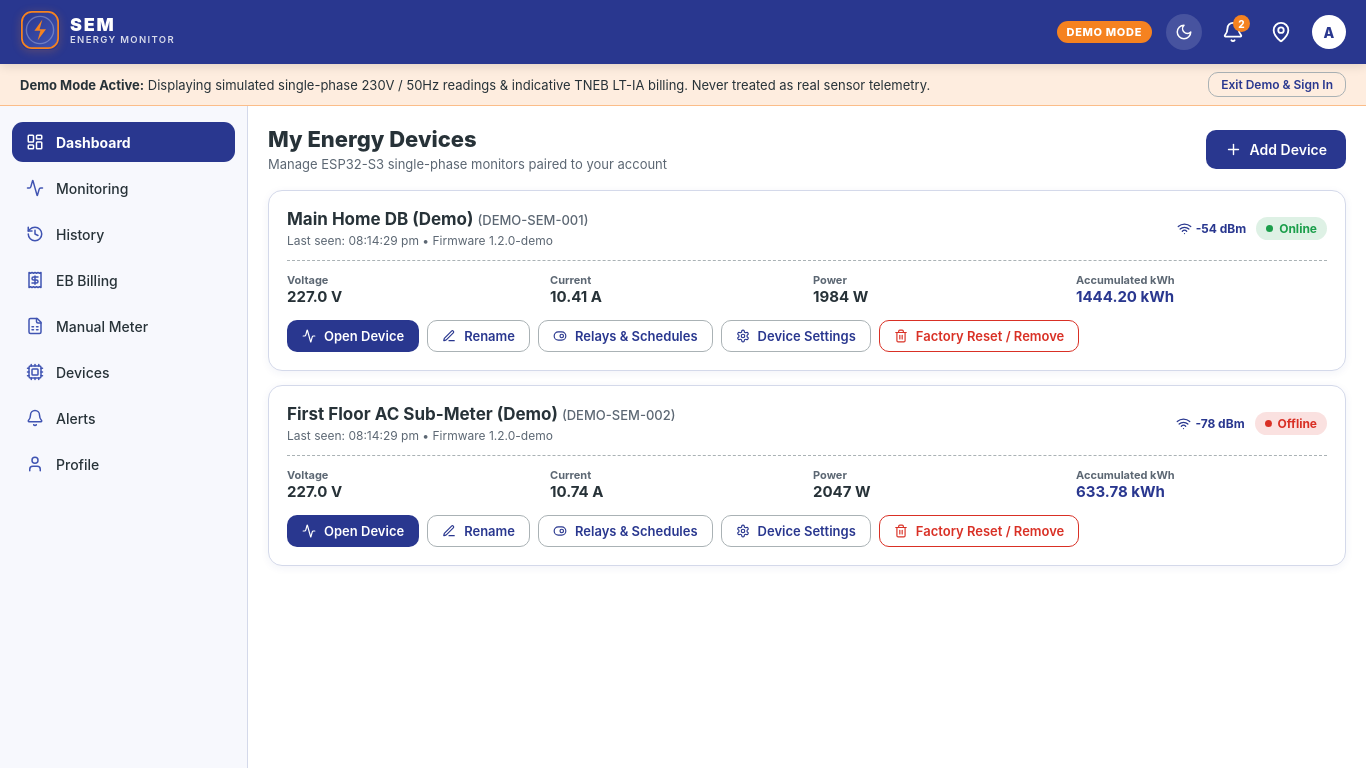
Scenario: Phase 2 Web Dashboard, Monitoring & Devices › lists devices and allows renaming in Demo Mode
Expected: the heading "My Energy Devices" is shown, [268,126,477,152]
Click the button "Rename" below "10.41 A": (479, 336) [427,320,530,352]
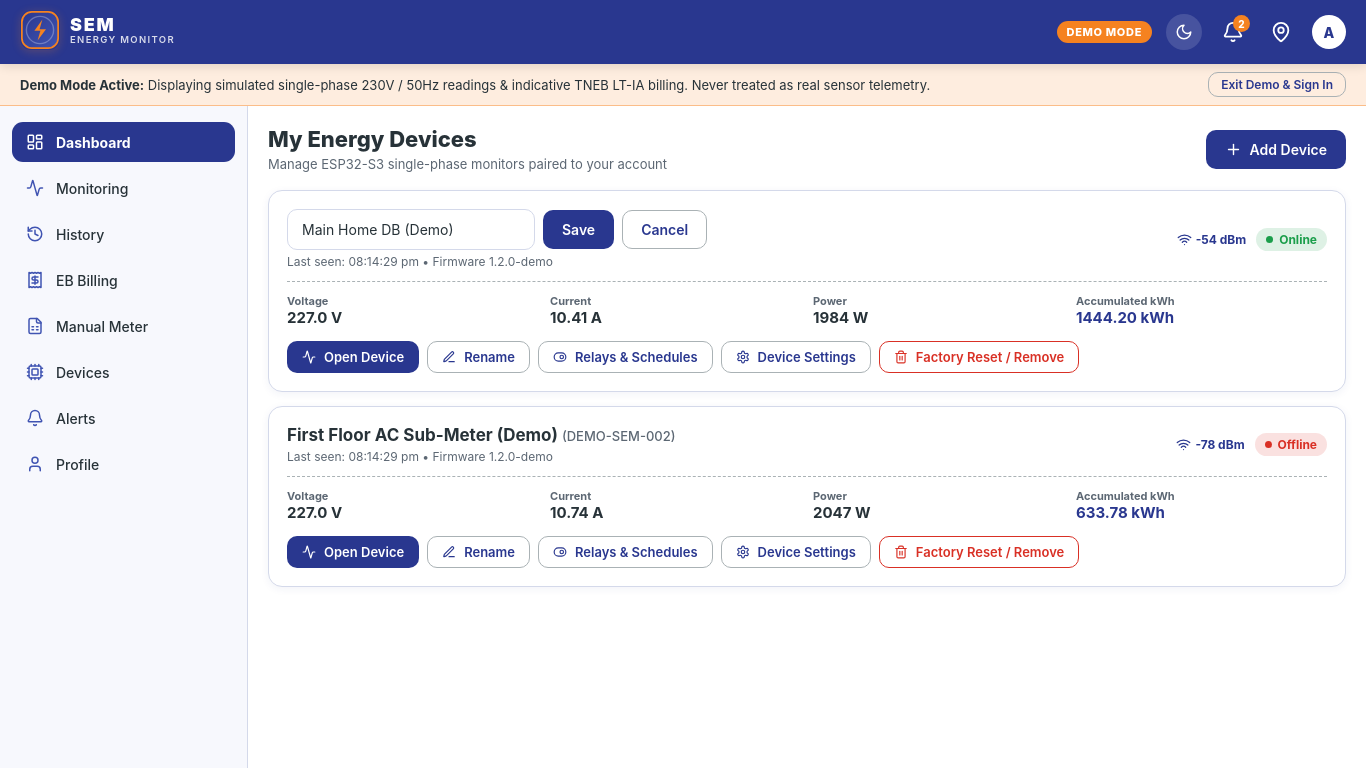
Replace the text in the field named "New device name" with "Renamed Main DB": (411, 230) [287,209,535,250]
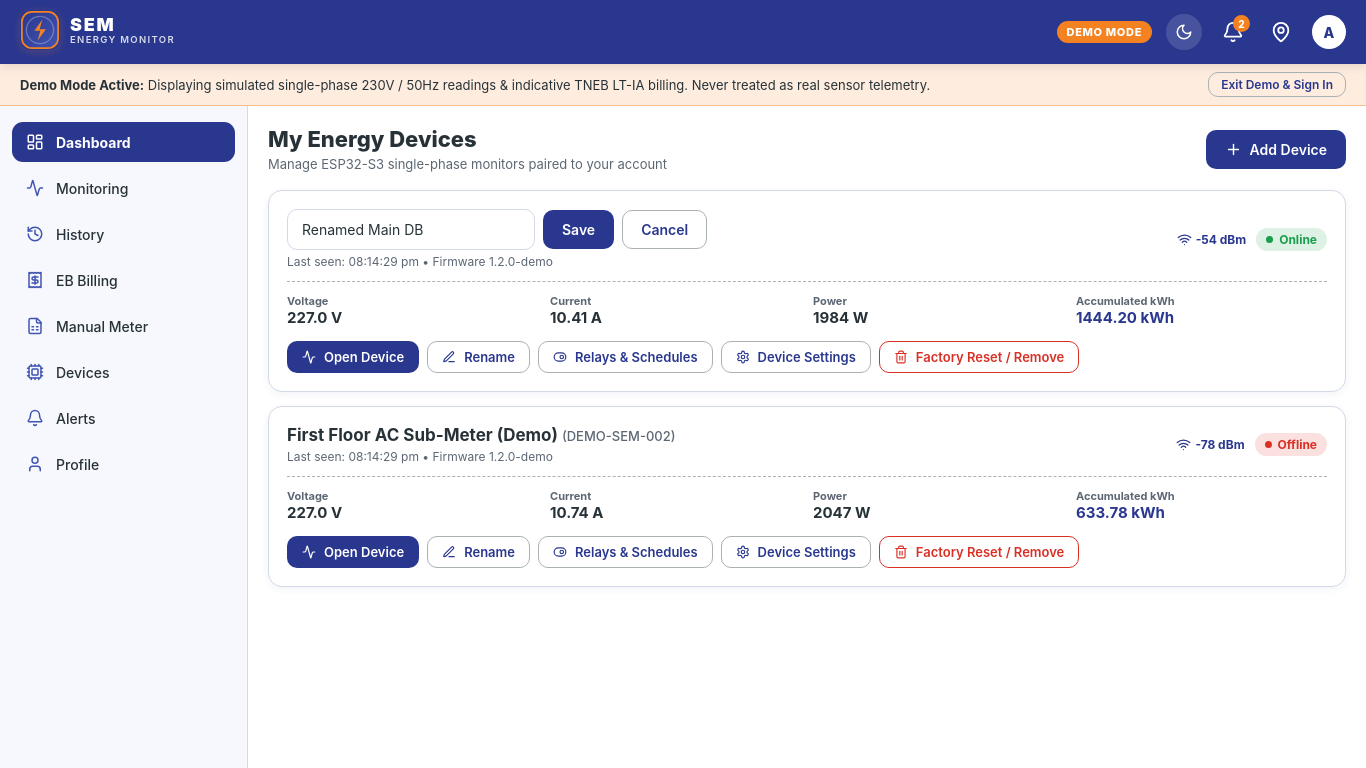
Click the button "Save": (579, 230) [543,210,614,249]
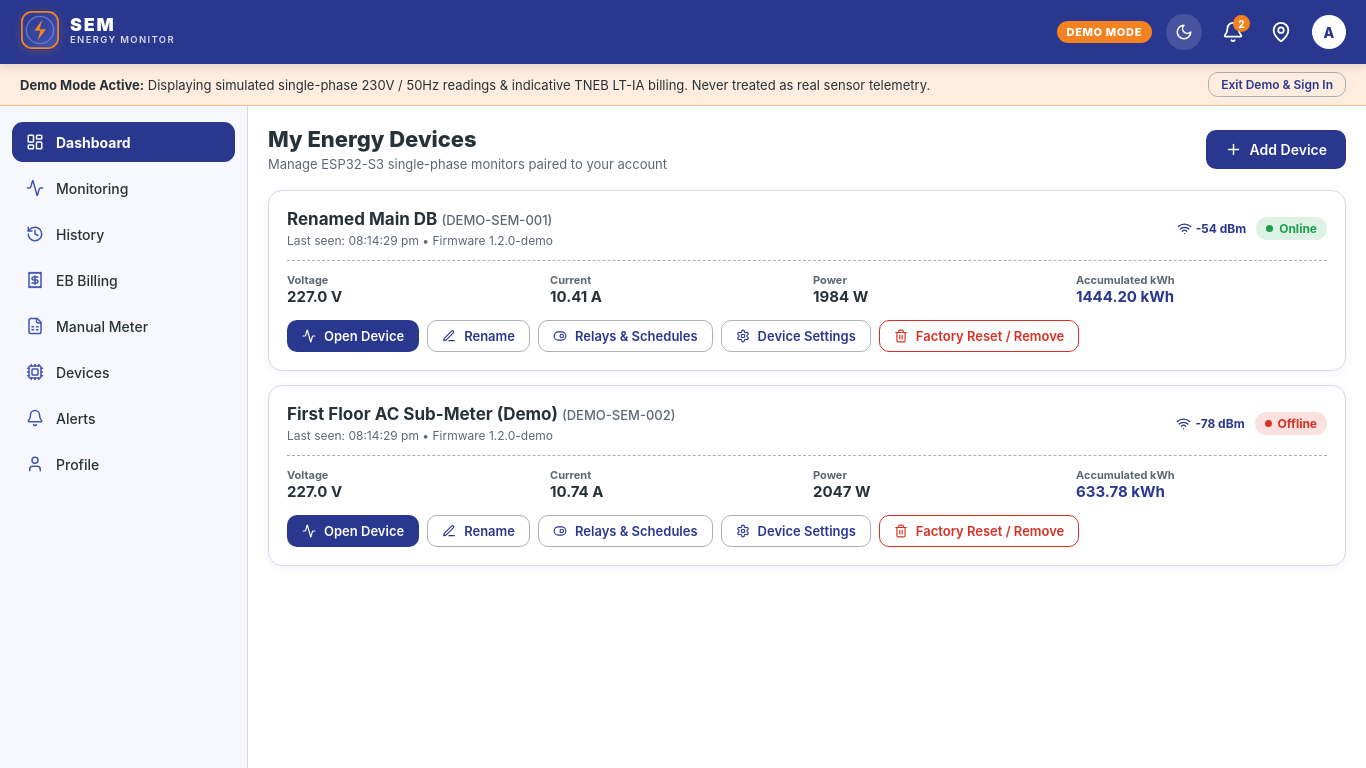
Result: the text "Renamed Main DB (DEMO-SEM-001)" is shown at [287,209,553,229]
